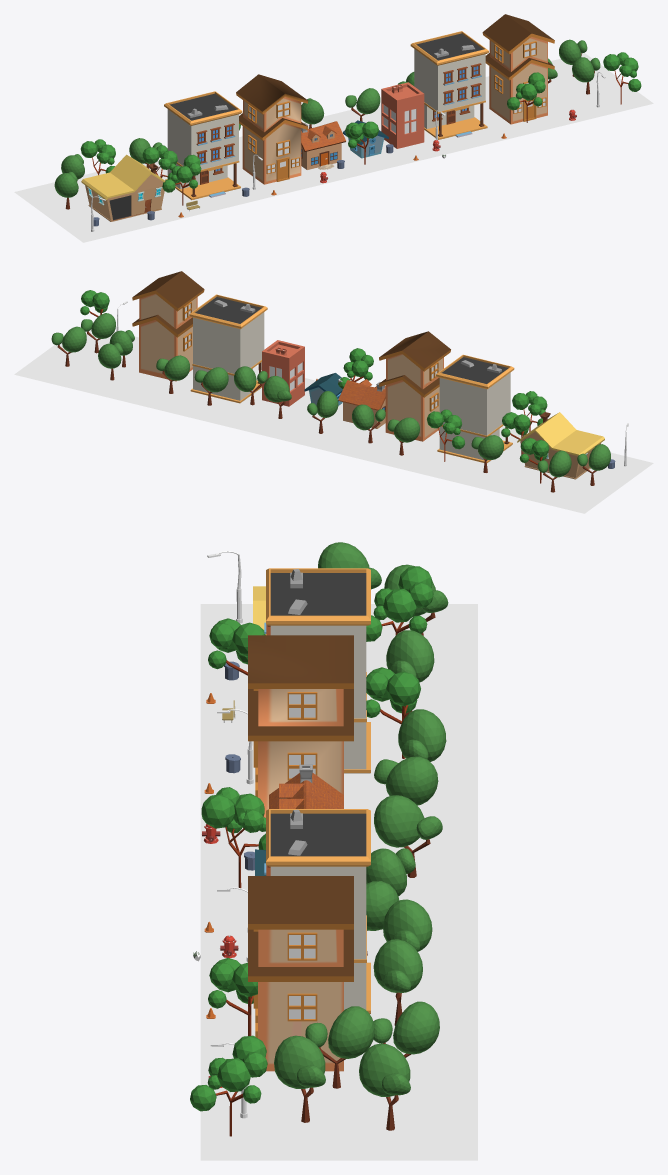
The model's file is Houses map.fbx.
3 renders of one model, top to bottom at view 1: azimuth 30°, elevation 25°; view 2: azimuth 150°, elevation 25°; view 3: azimuth 270°, elevation 25°, orthographic. The views are drawn at different scales.
Parts seen in each view (by area): view 1: Vert.020; view 2: Vert.020; view 3: Vert.020.
Part boxes in pixels (<box>): Vert.020: <box>14,14,653,242</box>; Vert.020: <box>14,271,653,513</box>; Vert.020: <box>190,542,477,1160</box>.
Bounding box in the file's own units: 914 × 636 × 4177.
Materials: 40 (7 with a texture image).
